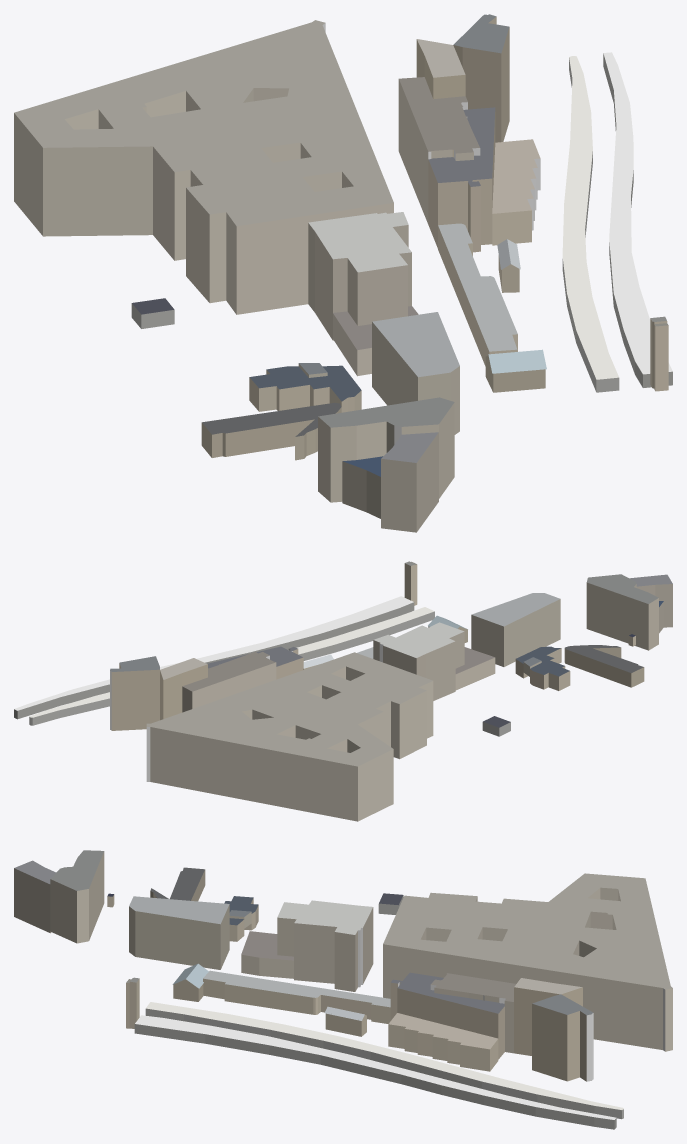
3 views of the same model, one above another, from view 1: azimuth 30°, elevation 25°; view 2: azimuth 150°, elevation 25°; view 3: azimuth 270°, elevation 25° (orthographic). The views are drawn at different scales.
Visible parts, largest first — view 1: tuile; view 2: tuile; view 3: tuile.
Part boxes in pixels (<box>): tuile: <box>14,14,672,532</box>; tuile: <box>14,561,672,821</box>; tuile: <box>14,850,672,1129</box>.
Bounding box in the file's own units: 248 × 36.2 × 285.
